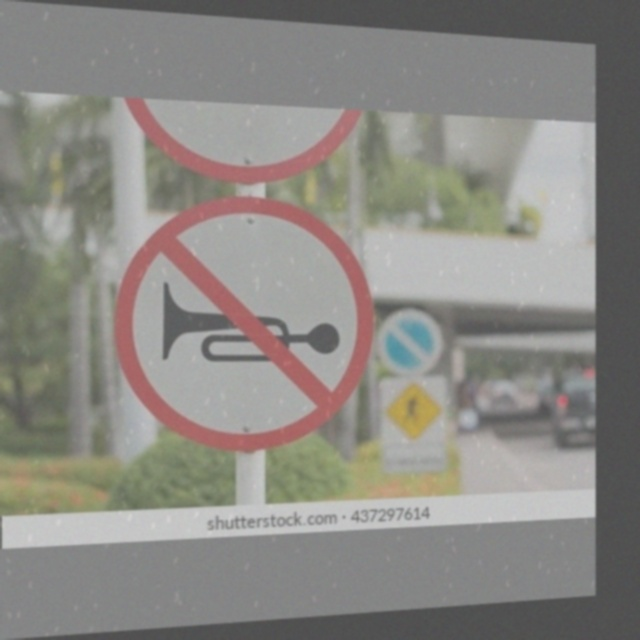Horn_Prohibited: (113, 194, 374, 452)
